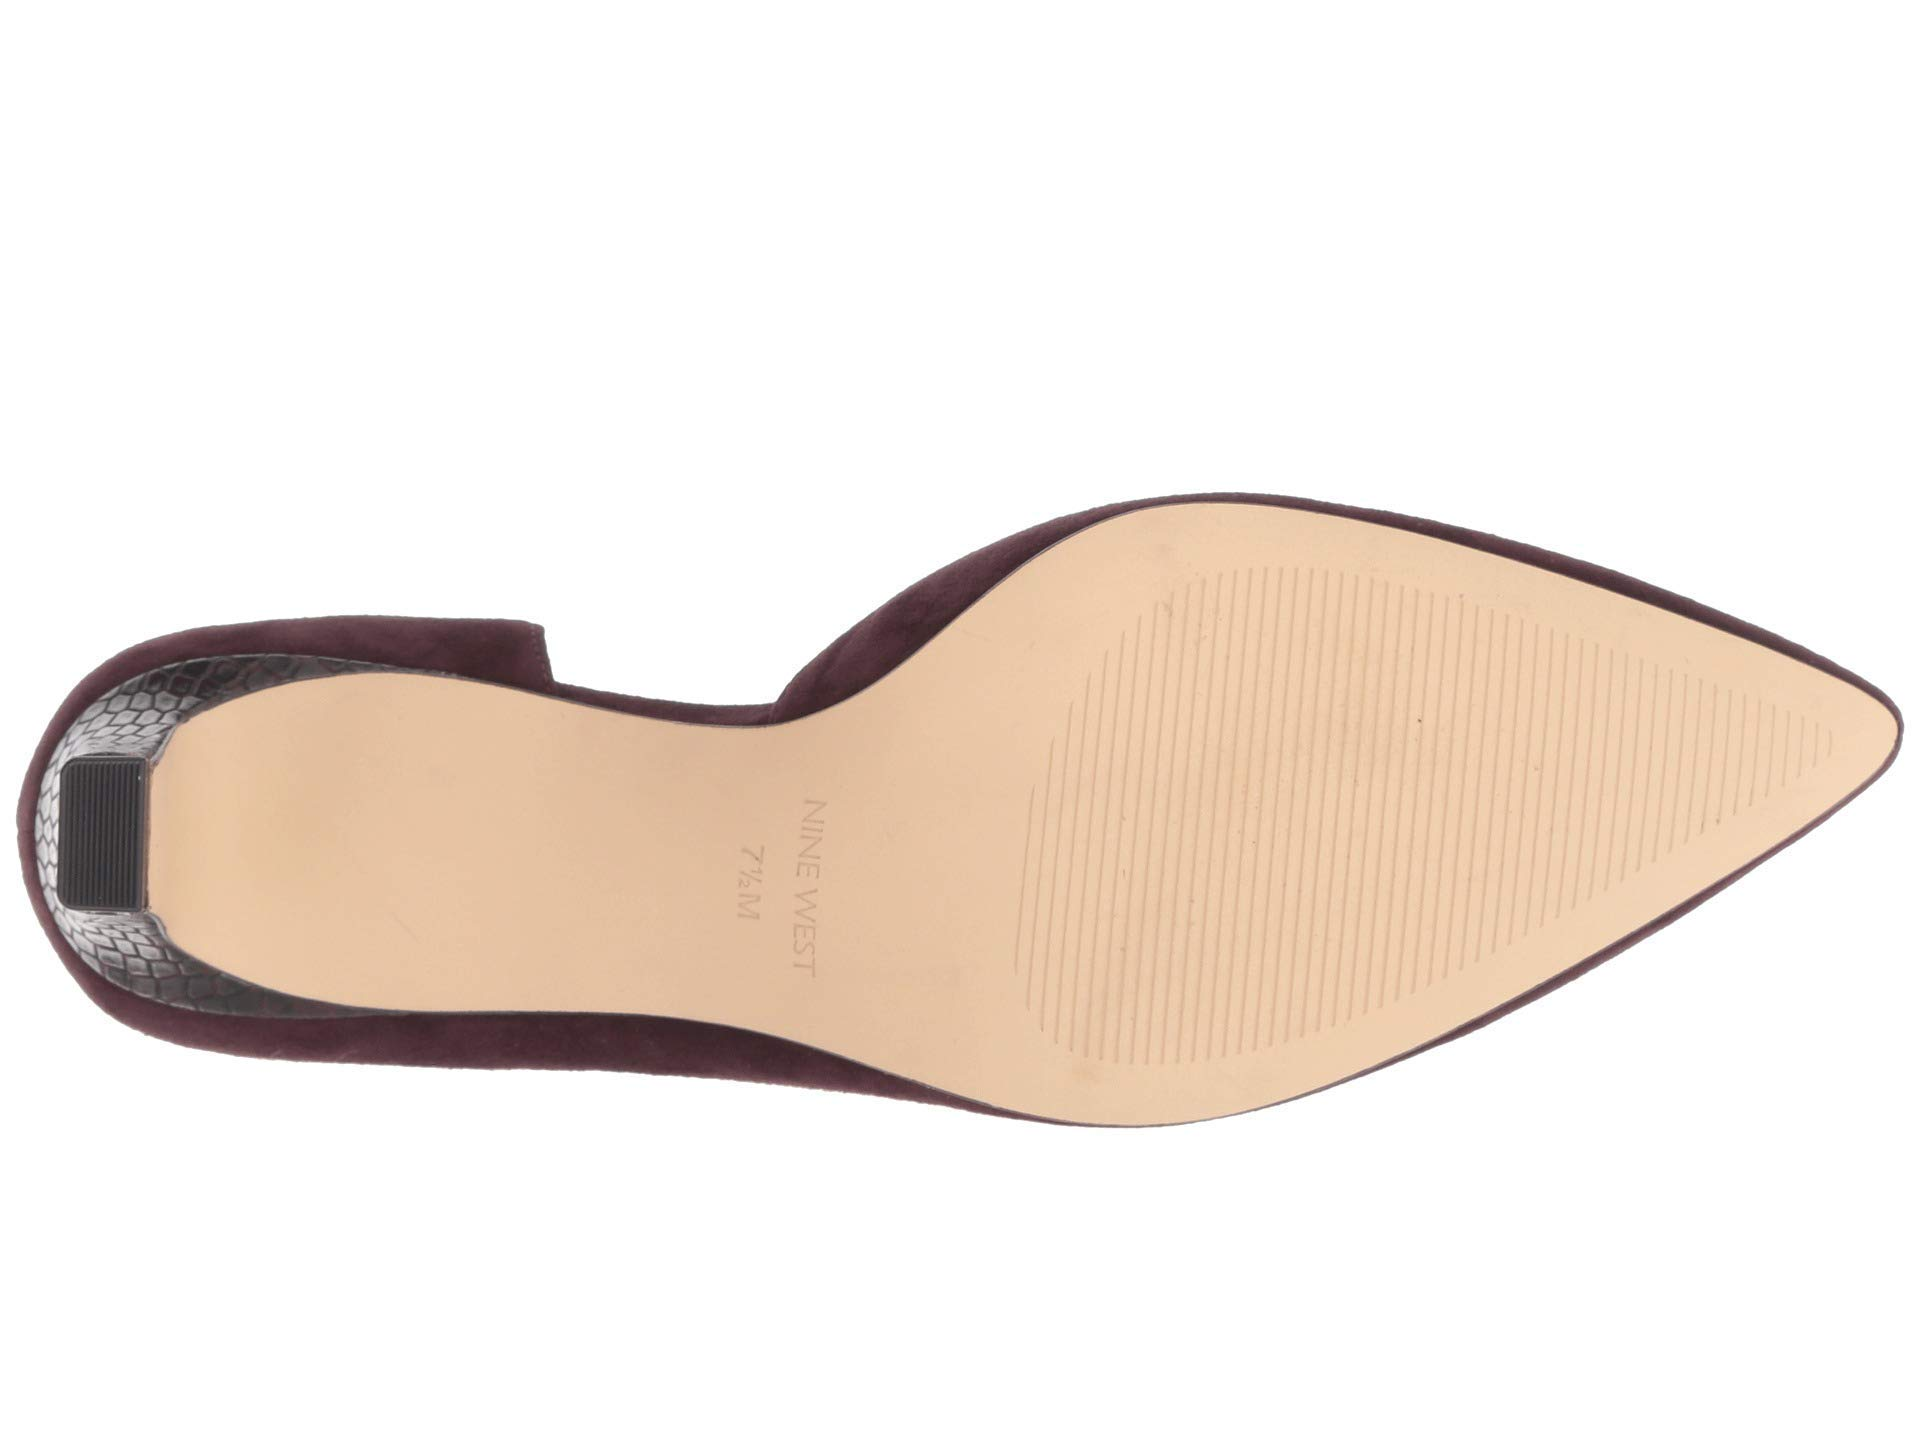exclude: (243, 685, 652, 1009)
line: (1075, 584, 1658, 911), (51, 750, 163, 920)
quad: (51, 750, 163, 920)
text: (674, 764, 919, 998)
